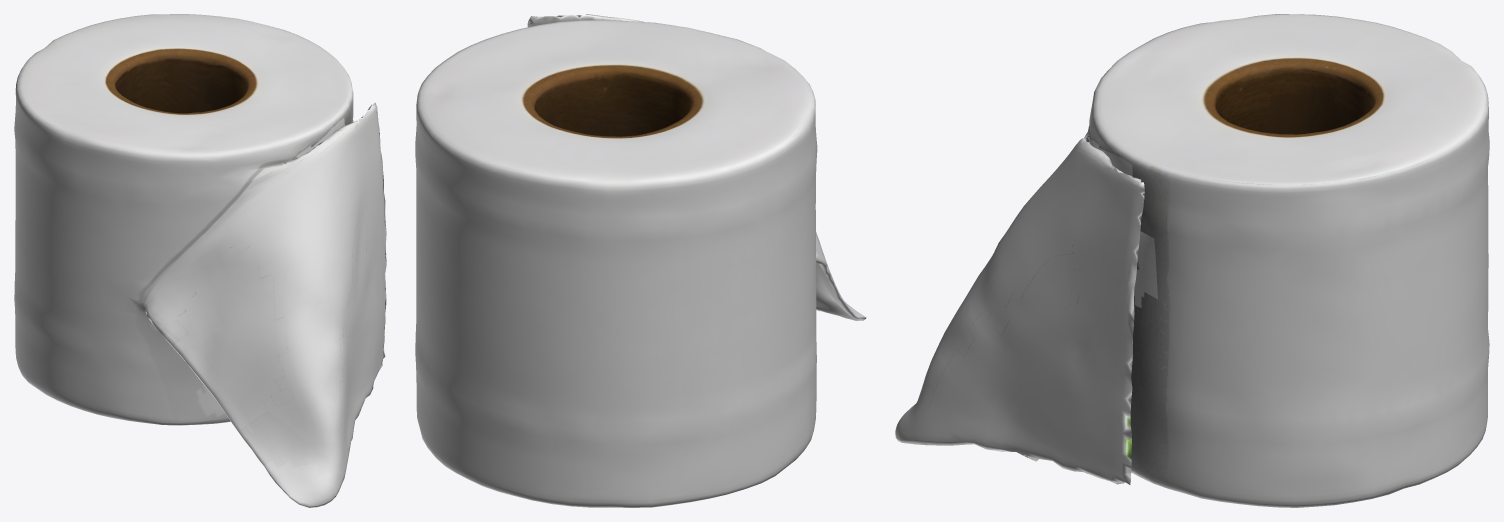
Rendered from Meshy_AI_Toilet_Roll_Calmness_0105210641_texture.fbx.
3 renders of one model, left to right at view 1: azimuth 30°, elevation 25°; view 2: azimuth 150°, elevation 25°; view 3: azimuth 270°, elevation 25°, orthographic. The views are drawn at different scales.
Visible parts, largest first — view 1: Mesh0; view 2: Mesh0; view 3: Mesh0.
Boxes of the visible parts, <box> form: Mesh0: <box>14,14,386,507</box>; Mesh0: <box>415,14,866,507</box>; Mesh0: <box>895,14,1489,507</box>.
Size of the model in its own units: 131 by 127 by 191.
1 material, 1 textured.
